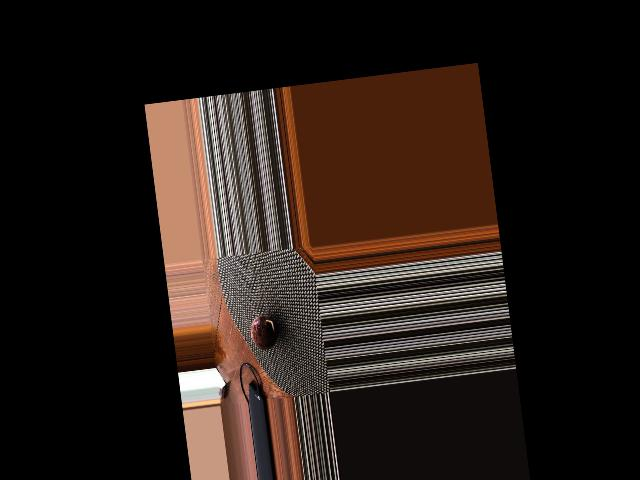beet: (249, 314, 279, 351)
